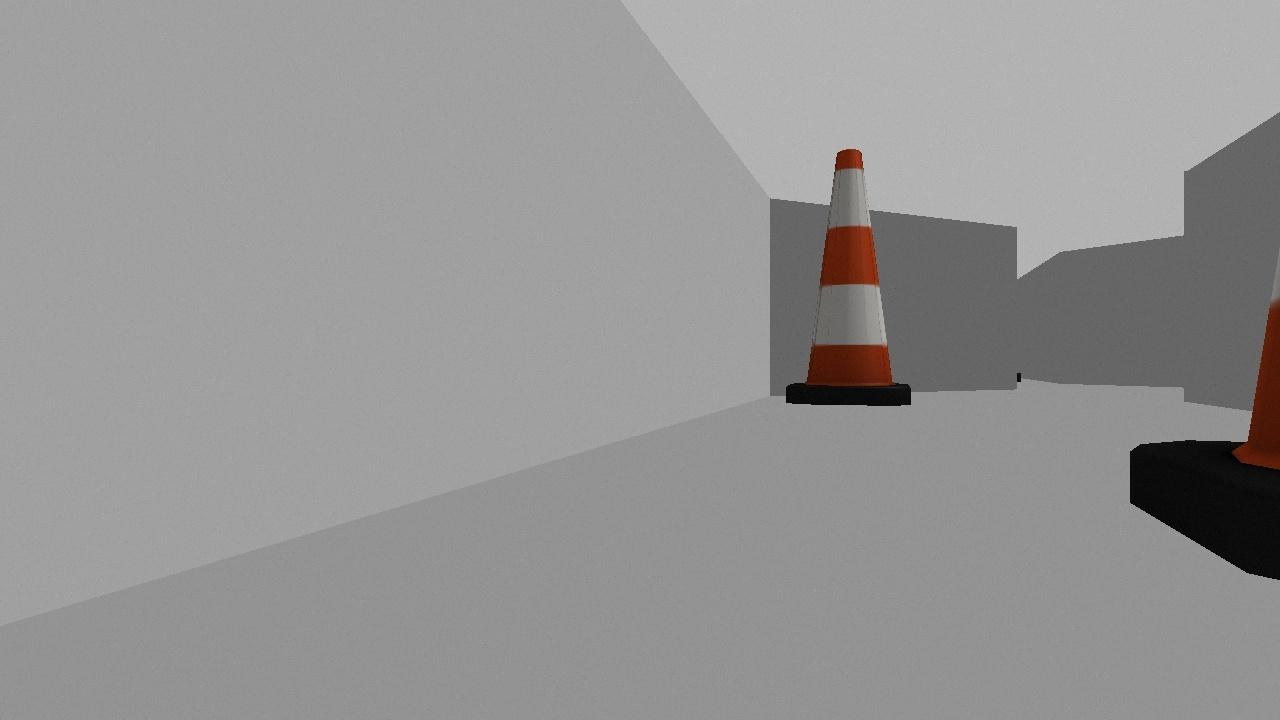cone_barrel: (777, 145, 920, 408)
